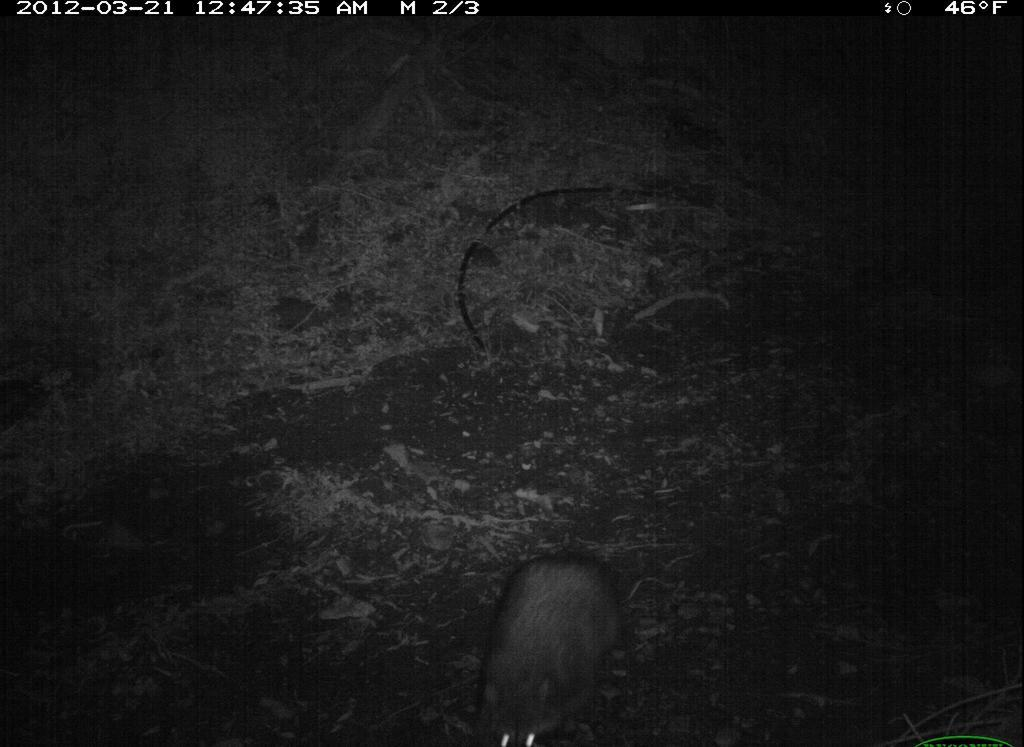raccoon: (477, 546, 629, 747)
